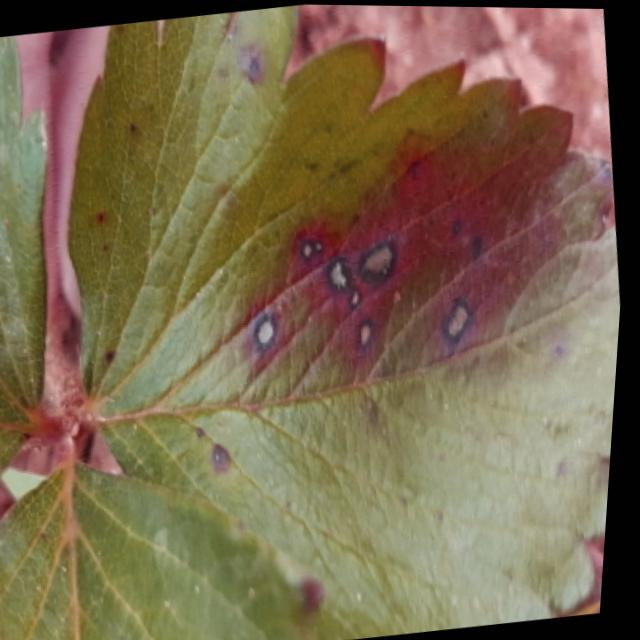Leaf Spot: (71, 4, 624, 640), (0, 457, 329, 640), (0, 34, 52, 485)
